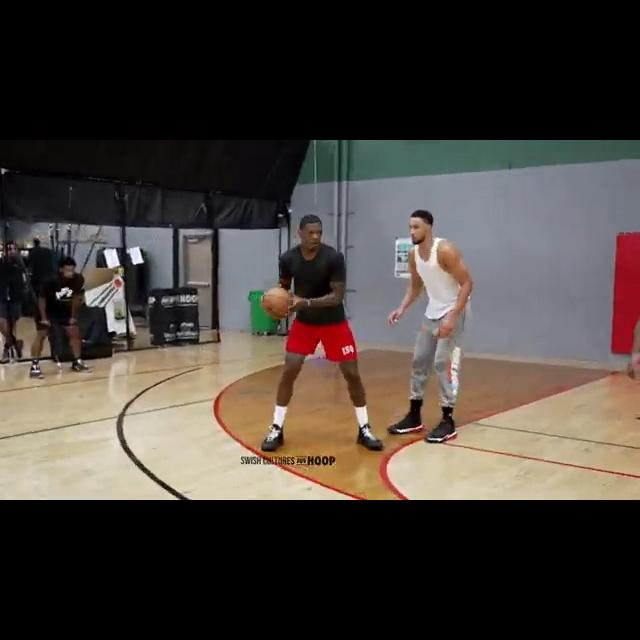basketball: (261, 285, 294, 319)
